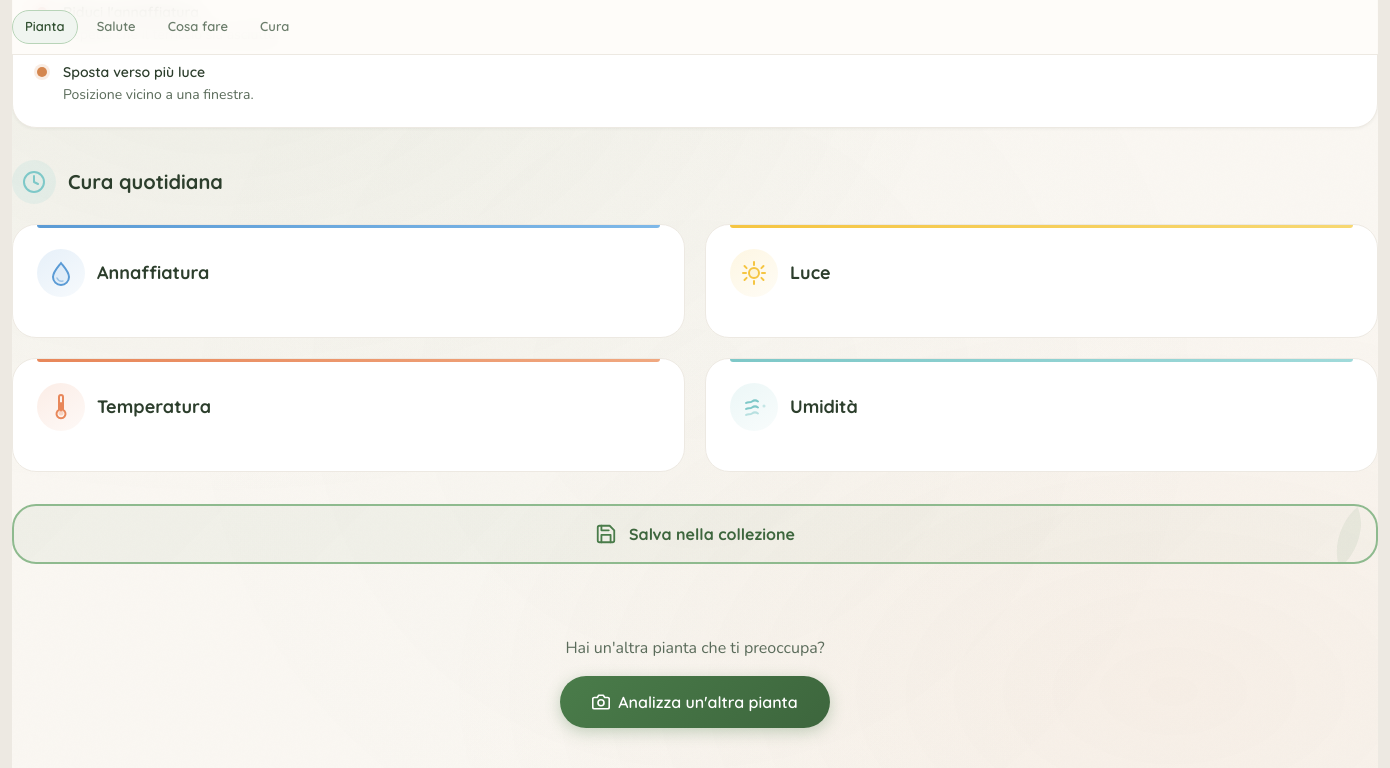
Test: Pulsante salva nella collezione › gestisce errore duplicato
(page scrolled)
Click the button "Salva nella collezione" at (695, 534), box top-left (12, 504), bottom-right (1378, 564)
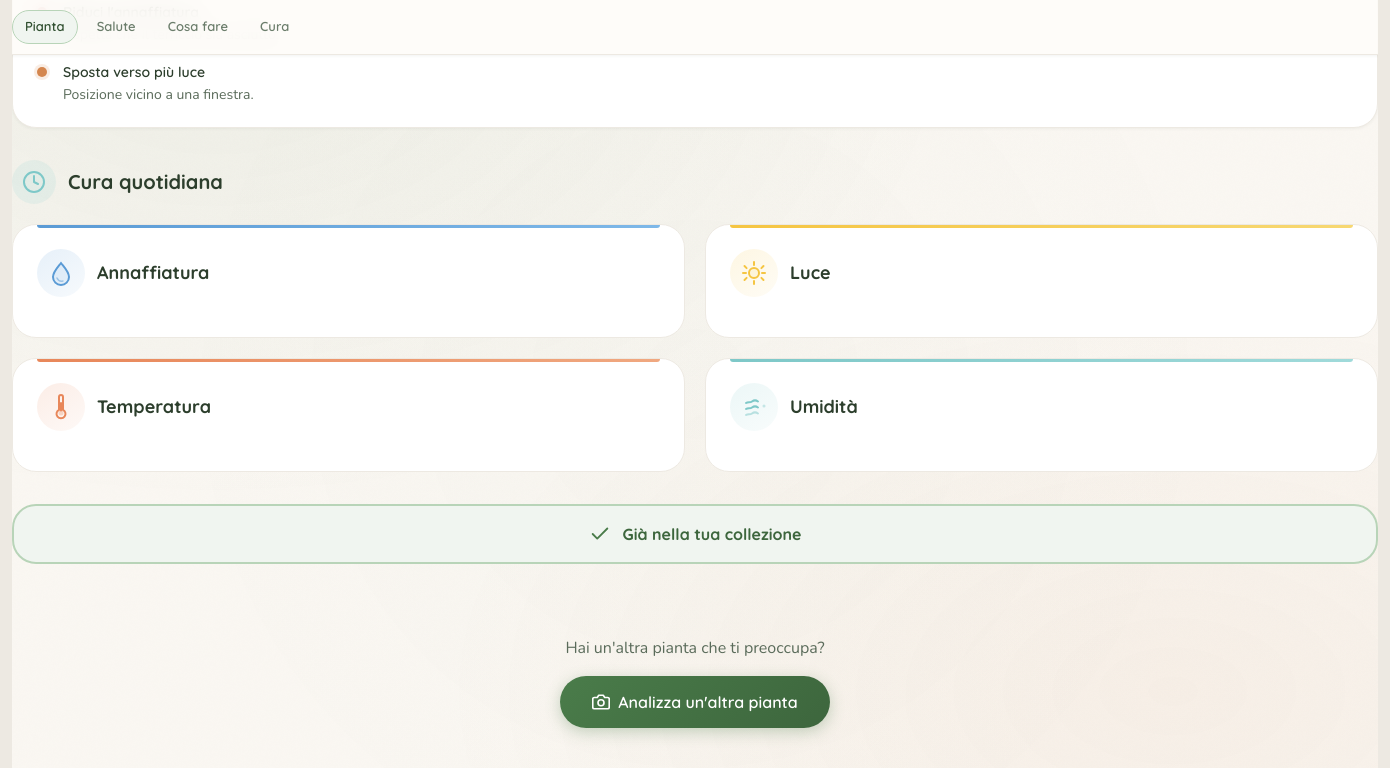
Expected: the text "Già nella tua collezione" is shown, top-left (623, 522), bottom-right (801, 546)
